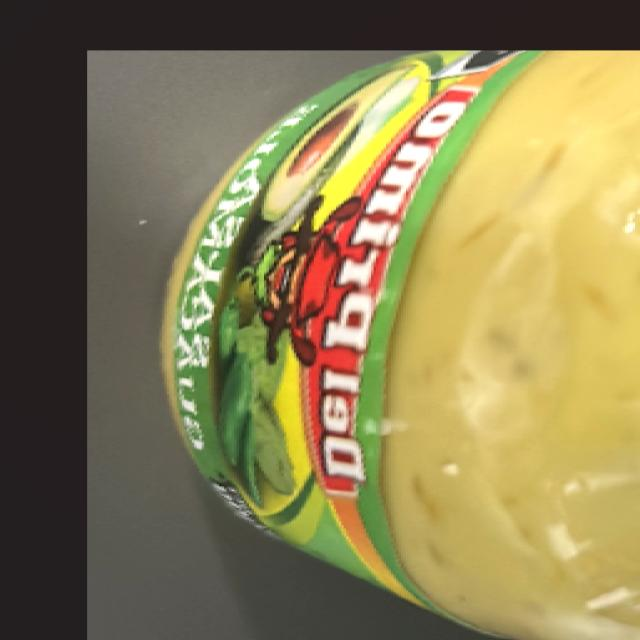delPrimoSalsa: (161, 74, 609, 545)
